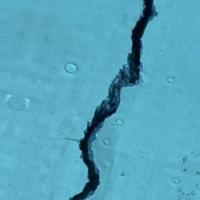crack: (55, 0, 164, 199)
